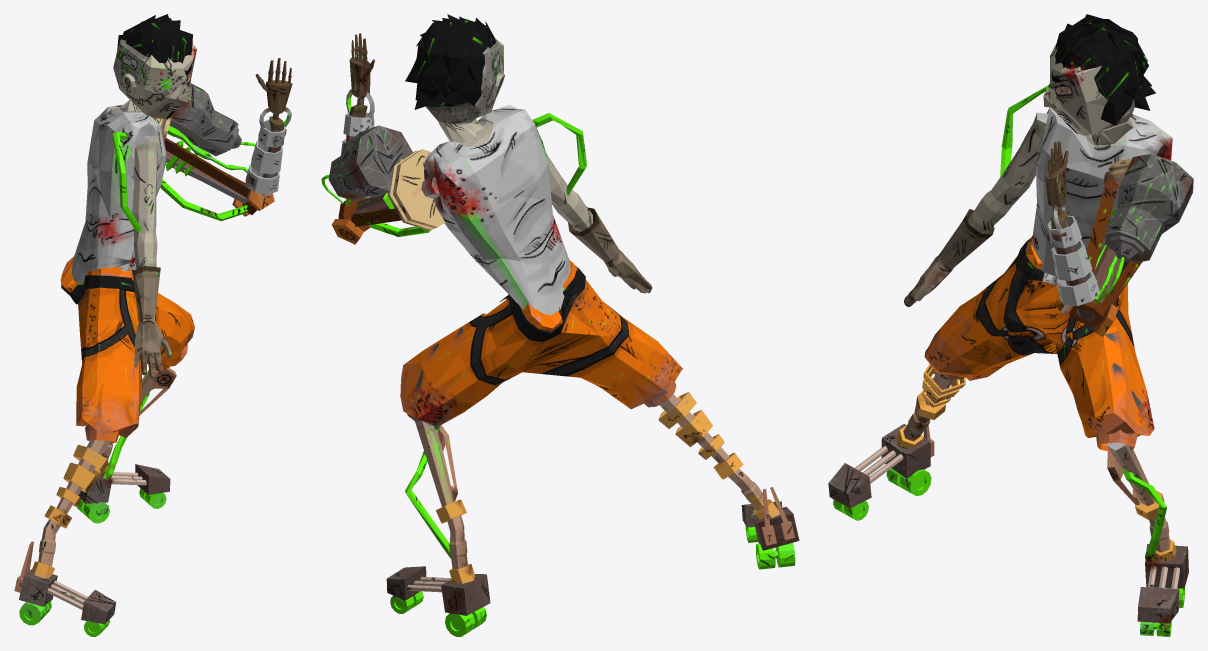
Rendered from CyborgFINALAnimation_000031.obj.
The picture shows the model from 3 angles, left to right: view 1: azimuth 30°, elevation 25°; view 2: azimuth 150°, elevation 25°; view 3: azimuth 270°, elevation 25°; orthographic projection. The views are drawn at different scales.
Visible parts, largest first — view 1: CyborgMesh_Cube.002; view 2: CyborgMesh_Cube.002; view 3: CyborgMesh_Cube.002.
Part boxes in pixels (x1=…): CyborgMesh_Cube.002: x1=14, y1=14, x2=292, y2=636; CyborgMesh_Cube.002: x1=321, y1=14, x2=799, y2=636; CyborgMesh_Cube.002: x1=828, y1=14, x2=1193, y2=636.
Size of the model in its own units: 5.98 by 8.68 by 4.73.
